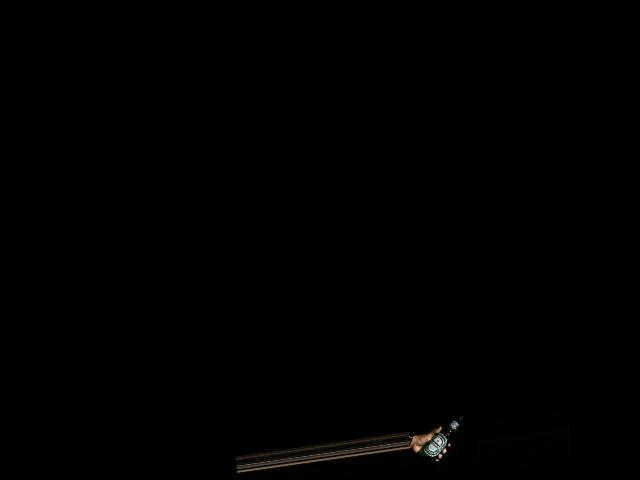beer: (412, 414, 470, 465)
